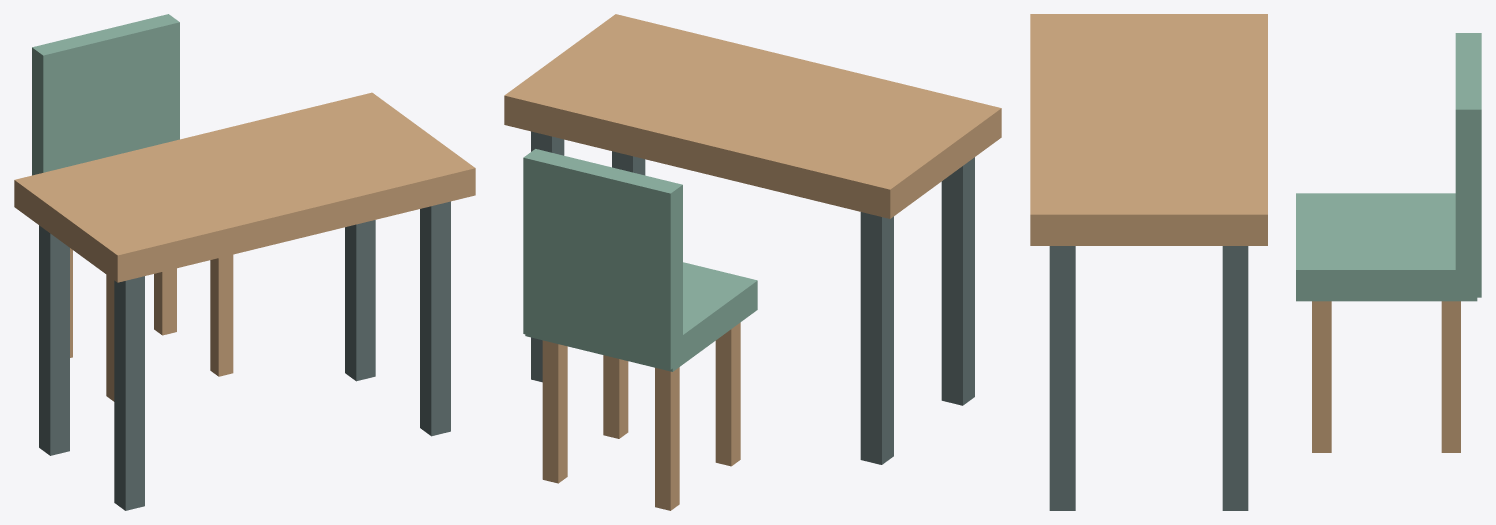
The model's file is study-desk.glb.
3 views of the same model, side by side, from view 1: azimuth 30°, elevation 25°; view 2: azimuth 150°, elevation 25°; view 3: azimuth 270°, elevation 25° (orthographic). The views are drawn at different scales.
Bounding box in the file's own units: 1.1 × 0.89 × 1.04.
